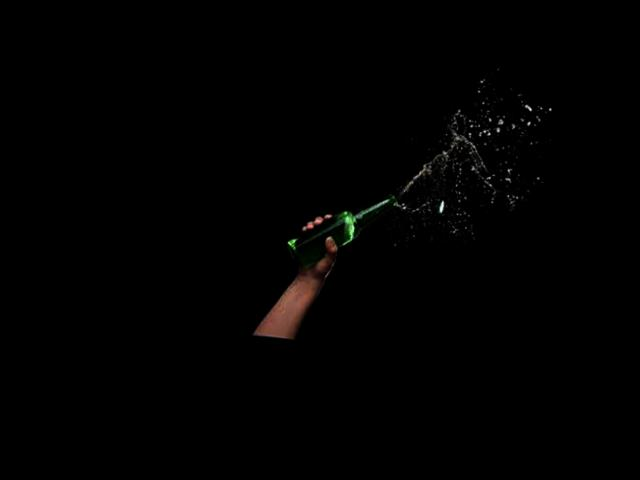beer: (280, 181, 398, 282)
